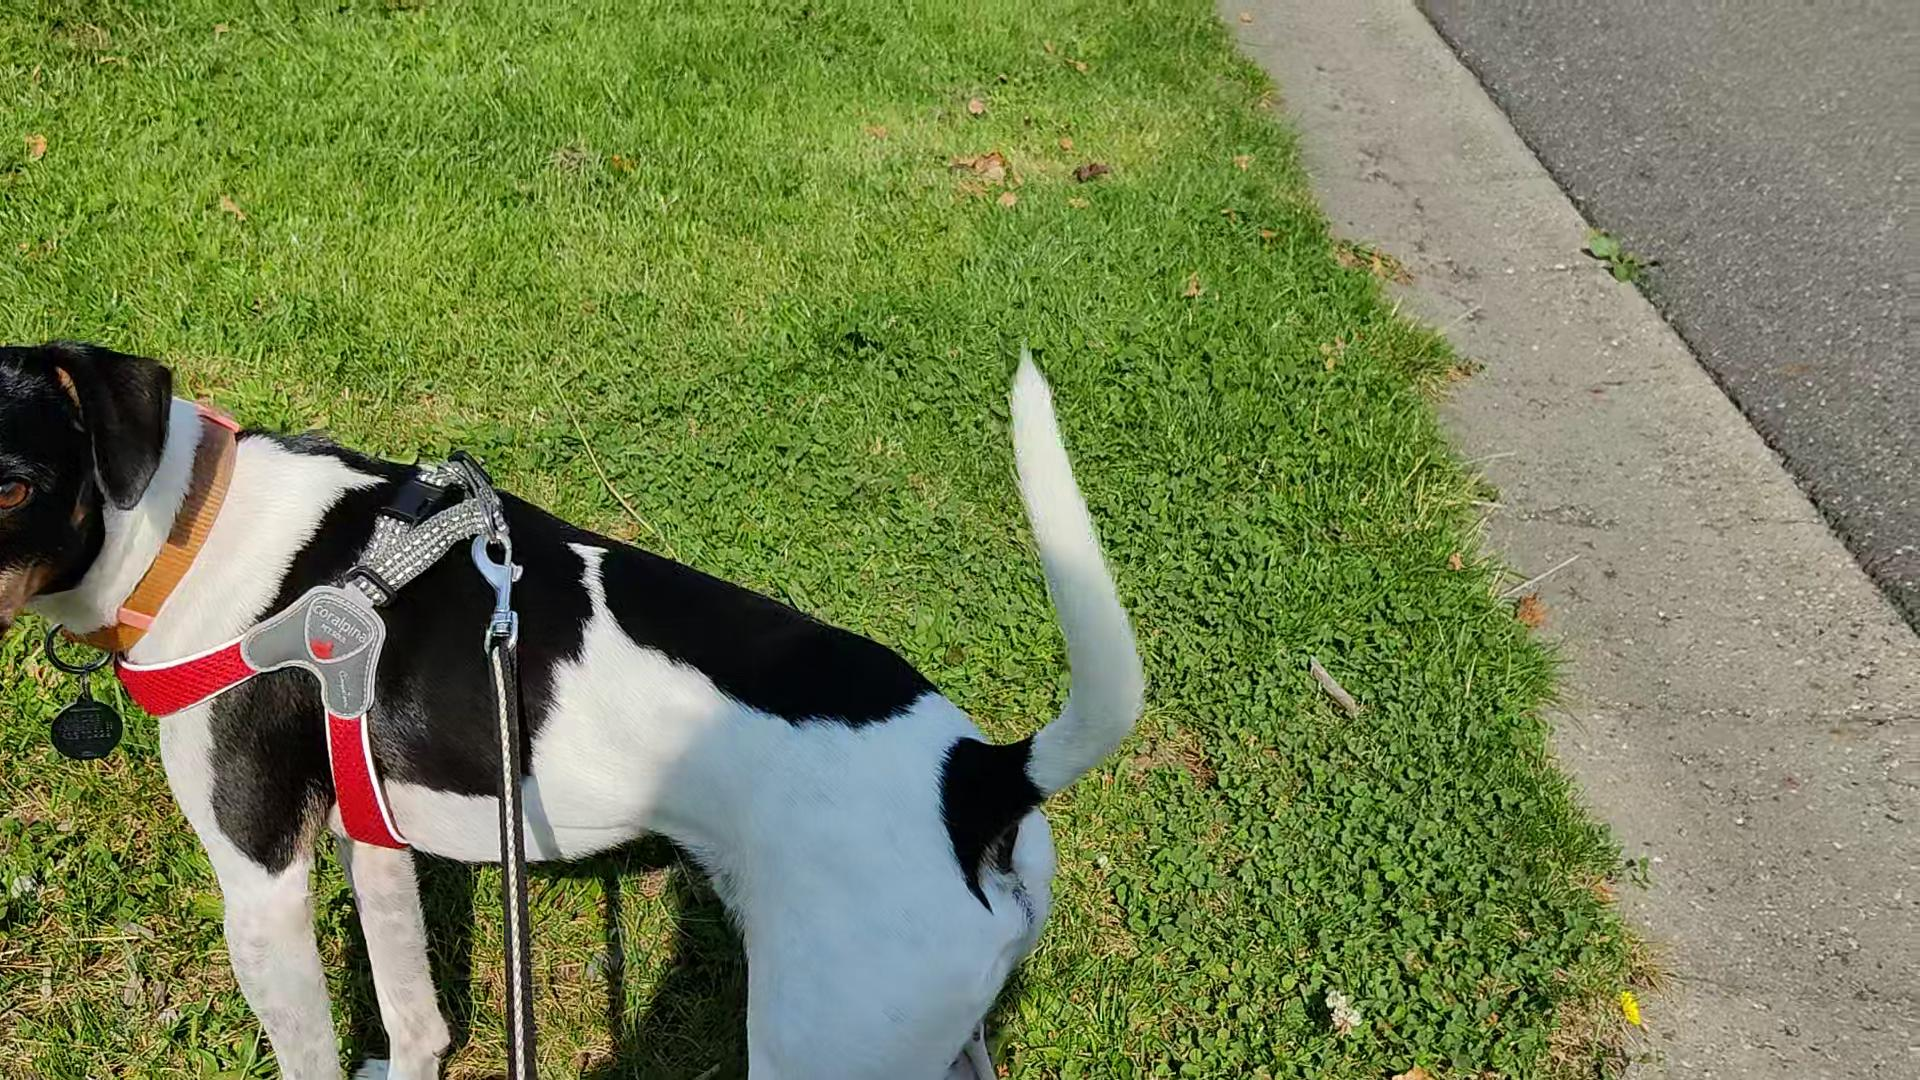Dog: (0, 318, 1155, 1079)
